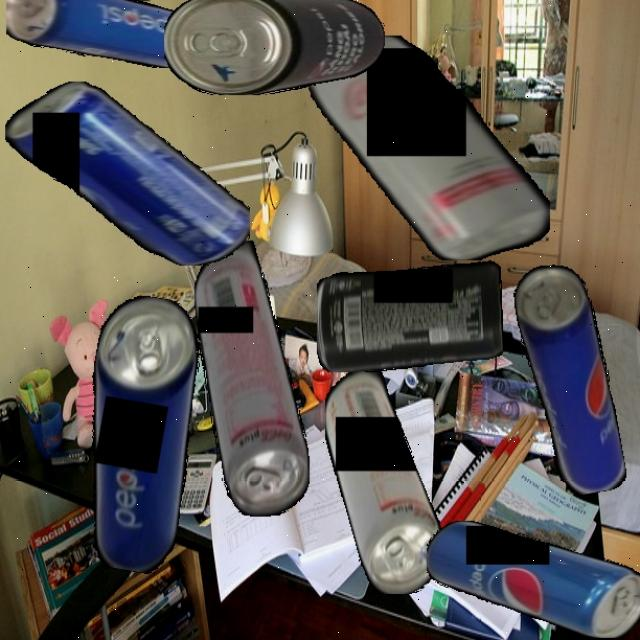debris: (309, 34, 550, 260), (4, 82, 250, 266), (61, 290, 216, 577), (193, 239, 310, 516), (509, 258, 628, 500), (324, 357, 442, 594), (426, 520, 640, 638), (164, 0, 385, 95), (316, 260, 503, 372), (6, 0, 209, 68)
